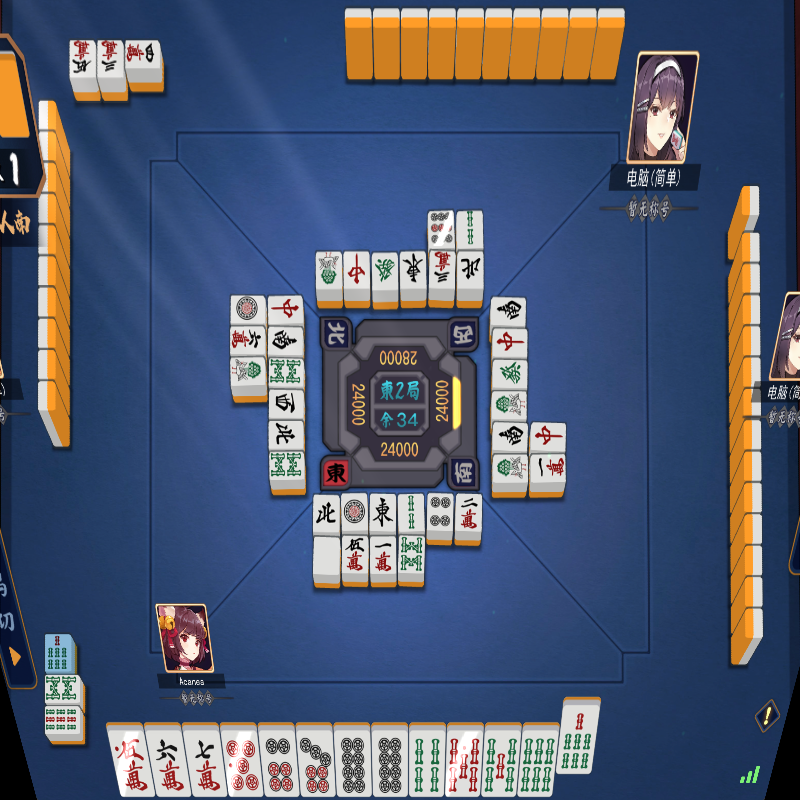1m: (530, 454, 567, 487), (369, 536, 397, 579)
1p: (229, 294, 266, 326), (340, 493, 368, 535)
1s: (315, 251, 344, 296), (490, 454, 530, 485), (229, 358, 267, 389), (491, 391, 528, 422)
1z: (398, 251, 427, 297), (369, 495, 397, 535)
2m: (454, 493, 483, 537)
2s: (396, 494, 427, 536), (454, 210, 484, 249)
2z: (490, 422, 529, 454), (490, 297, 528, 329), (267, 326, 306, 357)
3m: (426, 250, 456, 297), (96, 39, 125, 84)
3z: (267, 388, 306, 422)
4m: (123, 39, 162, 75)
4p: (425, 492, 454, 533)
4s: (407, 728, 445, 797)
4z: (455, 249, 484, 298), (267, 419, 307, 451), (312, 494, 341, 536)
5m: (109, 730, 155, 797), (340, 536, 369, 581), (69, 40, 96, 80)
5p: (220, 729, 263, 798)
5s: (482, 727, 518, 798), (445, 727, 482, 796)
5z: (312, 536, 342, 581)
6m: (151, 730, 184, 797), (229, 326, 266, 356)
6p: (258, 729, 301, 798)
6s: (519, 729, 557, 796)
6z: (369, 251, 400, 296), (490, 359, 529, 390)
7m: (188, 729, 226, 798)
7p: (296, 729, 336, 798)
7s: (560, 701, 599, 774), (45, 634, 74, 674)
7z: (341, 251, 371, 298), (267, 294, 306, 327), (492, 327, 529, 360), (528, 422, 566, 454)
8m: (266, 452, 306, 482)
8p: (333, 727, 373, 797), (371, 728, 408, 797)
8s: (398, 535, 426, 581), (266, 357, 306, 389), (44, 676, 82, 705)
9m: (426, 210, 456, 248)
9s: (44, 705, 84, 737)
